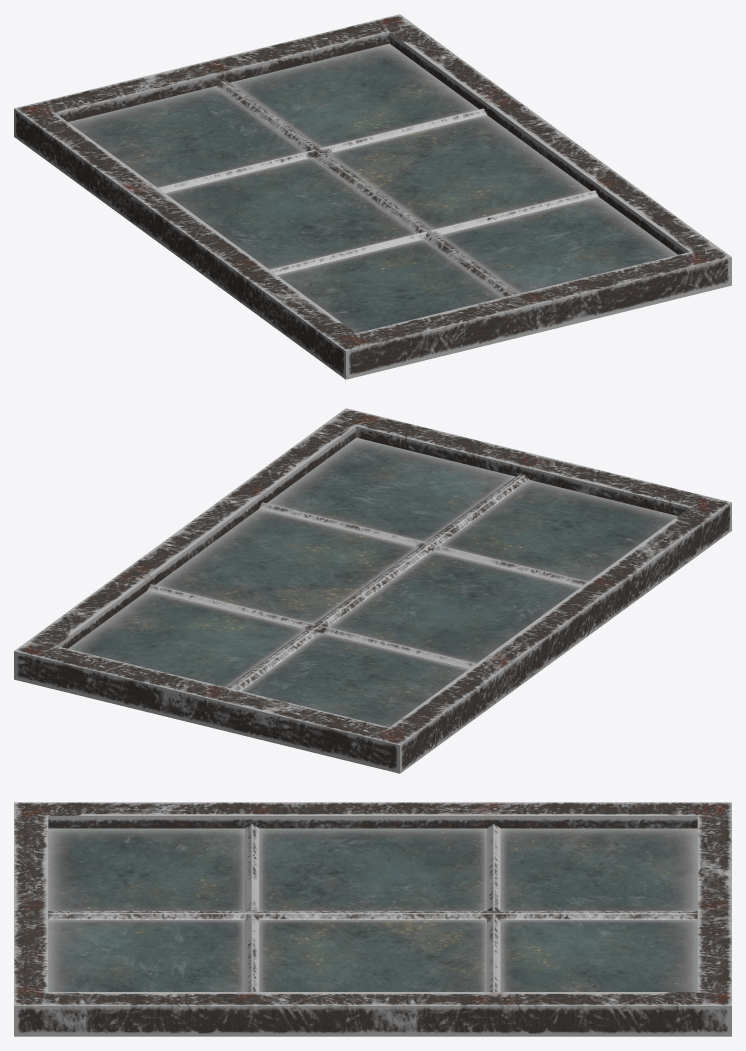
File: old_window_door (1).glb
The picture shows the model from 3 angles, top to bottom: view 1: azimuth 30°, elevation 25°; view 2: azimuth 150°, elevation 25°; view 3: azimuth 270°, elevation 25°; orthographic projection. The views are drawn at different scales.
Parts seen in each view (by area): view 1: pPlane3; view 2: pPlane3; view 3: pPlane3.
Part boxes in pixels (bbox=[...]): pPlane3: bbox=[14, 14, 731, 379]; pPlane3: bbox=[14, 408, 731, 773]; pPlane3: bbox=[14, 802, 731, 1036].
Size of the model in its own units: 7.98 by 0.5618 by 11.89.
1 material, 1 textured.
